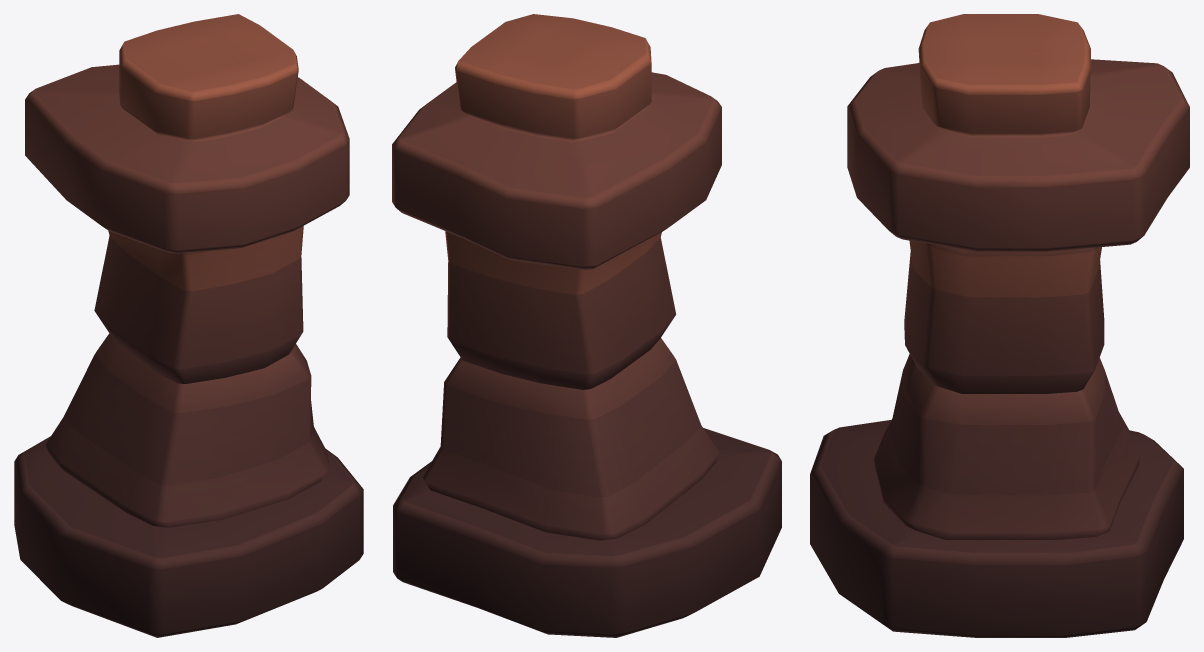
The model's file is rock_formation_05.fbx.
The picture shows the model from 3 angles, left to right: view 1: azimuth 30°, elevation 25°; view 2: azimuth 150°, elevation 25°; view 3: azimuth 270°, elevation 25°; orthographic projection. The views are drawn at different scales.
Visible parts, largest first — view 1: rock_formation_05; view 2: rock_formation_05; view 3: rock_formation_05.
Boxes of the visible parts, x1=… form: rock_formation_05: x1=14, y1=14, x2=363, y2=637; rock_formation_05: x1=392, y1=14, x2=781, y2=637; rock_formation_05: x1=810, y1=14, x2=1189, y2=637.
Bounding box in the file's own units: 513 × 841 × 543.
